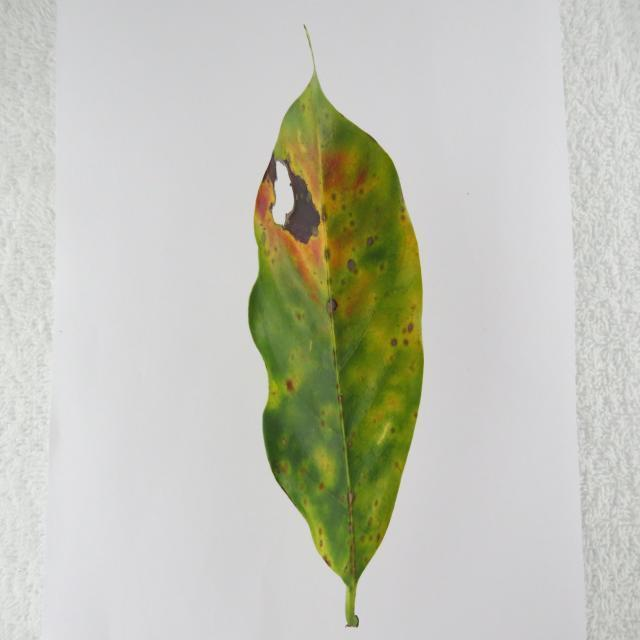DeficienciaNutricional-Fosforo: (249, 55, 424, 627)
